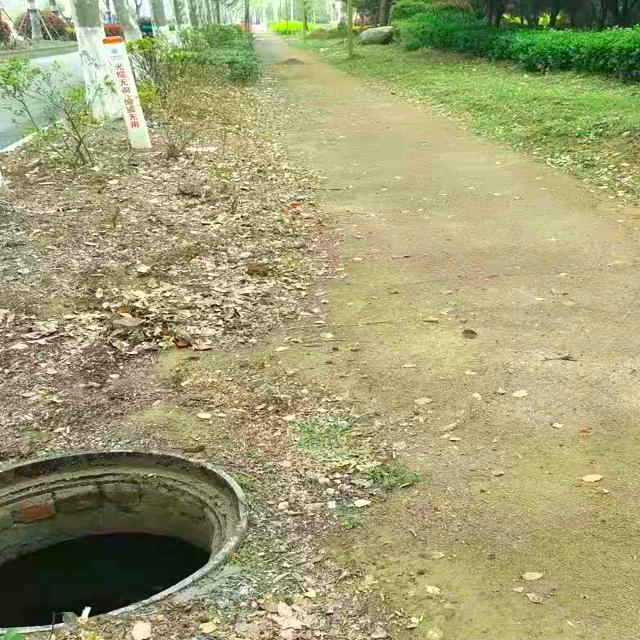lose: (0, 444, 254, 631)
